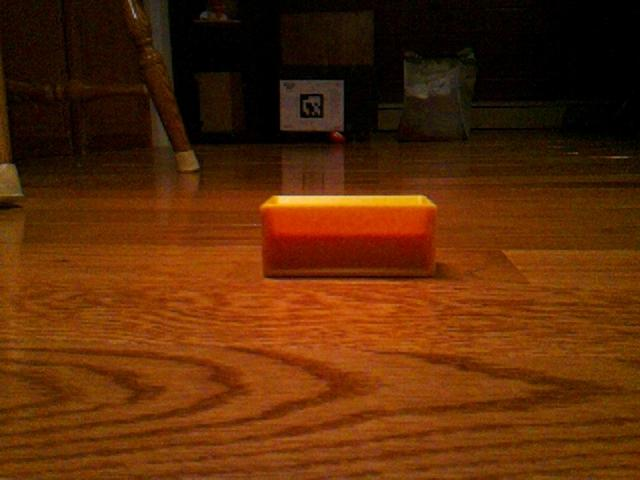yellow: (259, 193, 439, 279)
